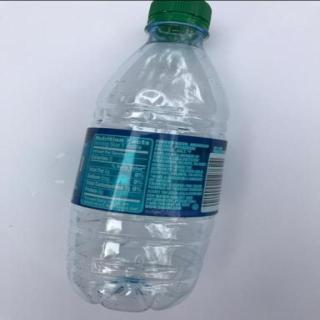Anorganik: (56, 2, 234, 312)
